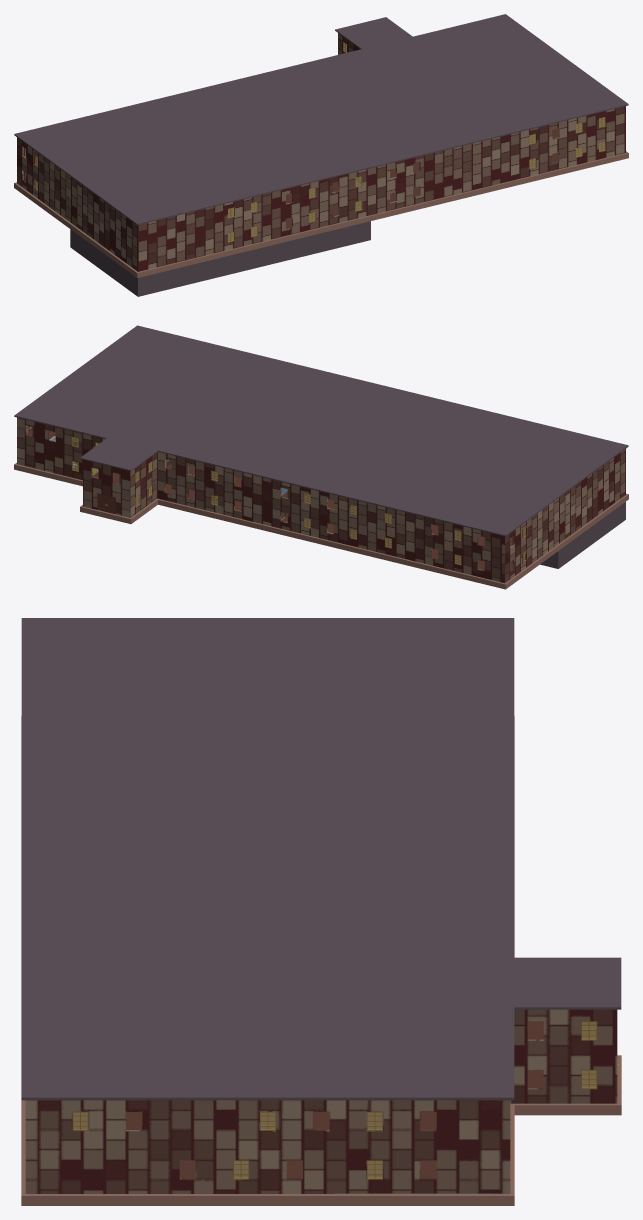
The model's file is Level3Backup.fbx.
The picture shows the model from 3 angles, top to bottom: view 1: azimuth 30°, elevation 25°; view 2: azimuth 150°, elevation 25°; view 3: azimuth 270°, elevation 25°; orthographic projection. The views are drawn at different scales.
Visible parts, largest first — view 1: Roof, Walls1, Basement, Concrete, FloorLevel1, FloorLevel2, Glass.001, Glass.016; view 2: Roof, Walls1, Concrete, Basement, FloorLevel2, FloorLevel1, Glass.001, Glass.016; view 3: Roof, Walls1, Concrete, FloorLevel2, FloorLevel1, Glass.001, Glass.016.
Boxes of the visible parts, <box> form: Roof: <box>14,14,628,225</box>; Walls1: <box>17,33,625,271</box>; Basement: <box>70,221,370,296</box>; Concrete: <box>14,151,628,277</box>; FloorLevel1: <box>35,142,604,241</box>; FloorLevel2: <box>35,117,604,217</box>; Glass.001: <box>35,41,605,218</box>; Glass.016: <box>35,141,605,242</box>; Roof: <box>14,325,628,536</box>; Walls1: <box>17,417,625,583</box>; Concrete: <box>14,462,628,589</box>; Basement: <box>540,502,625,568</box>; FloorLevel2: <box>26,429,524,546</box>; FloorLevel1: <box>73,466,522,570</box>; Glass.001: <box>72,436,527,540</box>; Glass.016: <box>72,461,527,565</box>; Roof: <box>21,618,621,1100</box>; Walls1: <box>25,1009,617,1193</box>; Concrete: <box>21,716,621,1205</box>; FloorLevel2: <box>73,1021,596,1129</box>; FloorLevel1: <box>179,1070,596,1178</box>; Glass.001: <box>72,1021,597,1130</box>; Glass.016: <box>233,1070,597,1179</box>.
Bounding box in the file's own units: 212 × 112 × 30.5.
11 materials, 1 textured.
